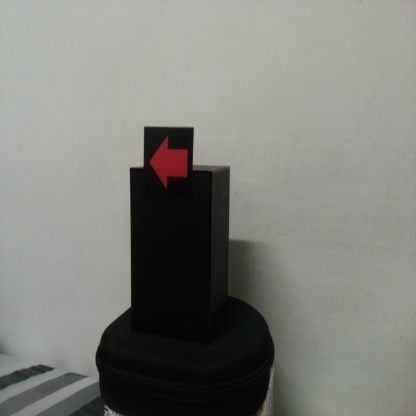id_4: (144, 128, 194, 199)
